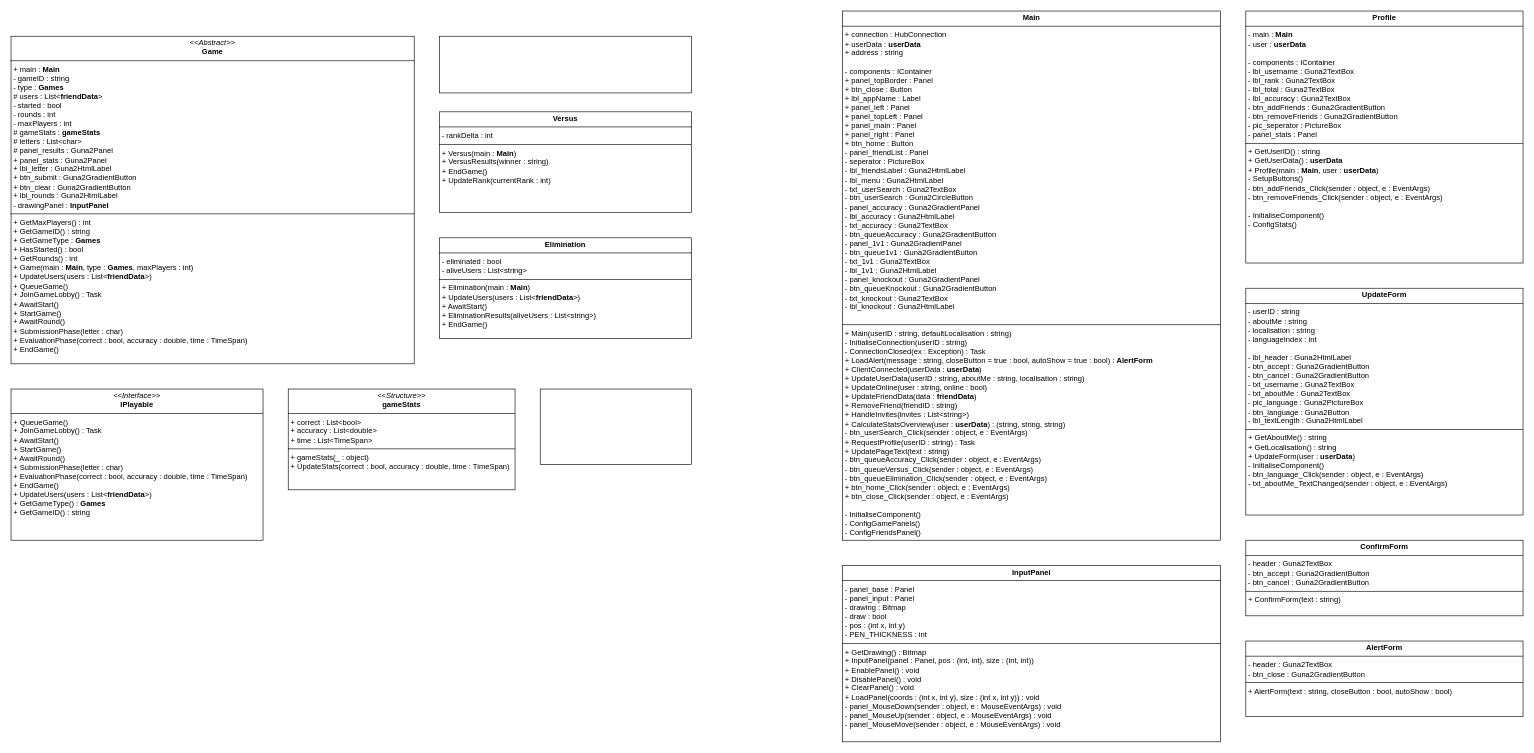
This 1534x753 diagram has some shape labels left out. The box of each missing label's shape, as (x1, y1, x2, y2) in pixels:
<<Enumerable>> Games Accuracy Versus Elimination: (540, 388, 691, 465)
Accuracy + Accuracy(main : Main ): (439, 36, 691, 93)
